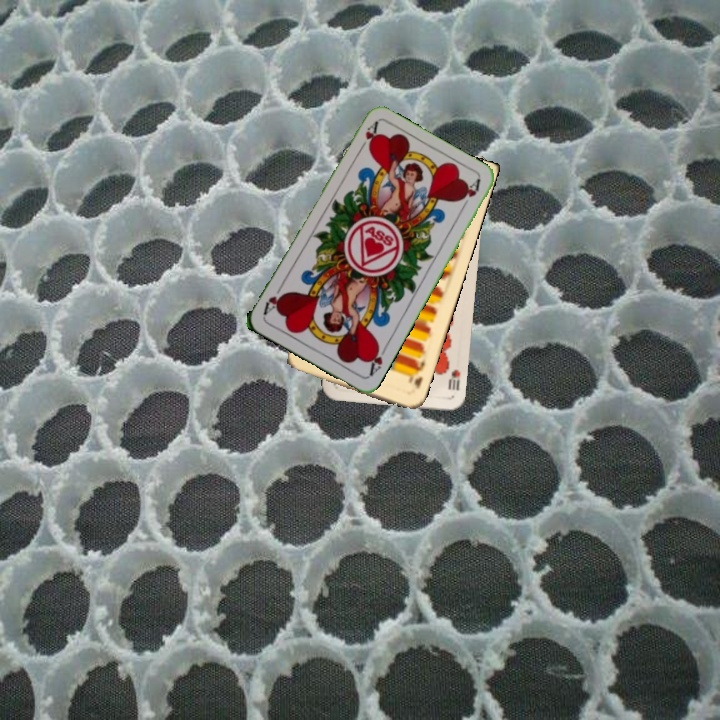E10: (406, 354, 428, 392)
H10: (444, 365, 463, 393)
HA: (364, 339, 390, 379), (354, 118, 381, 155)
